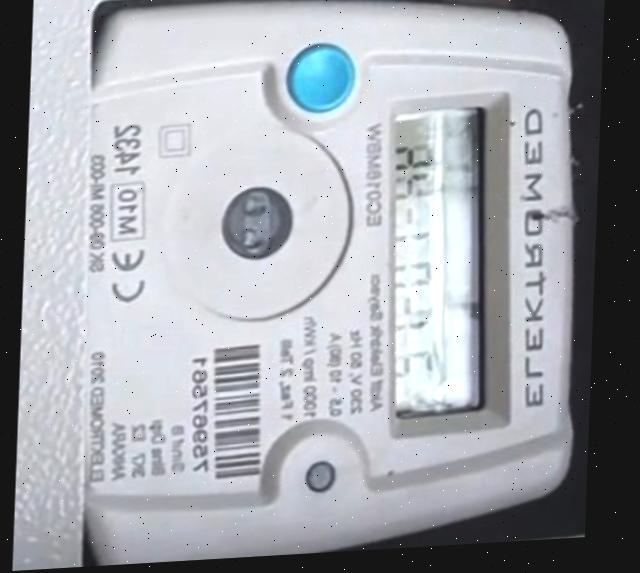electric-meter-detection: (83, 0, 577, 566)
